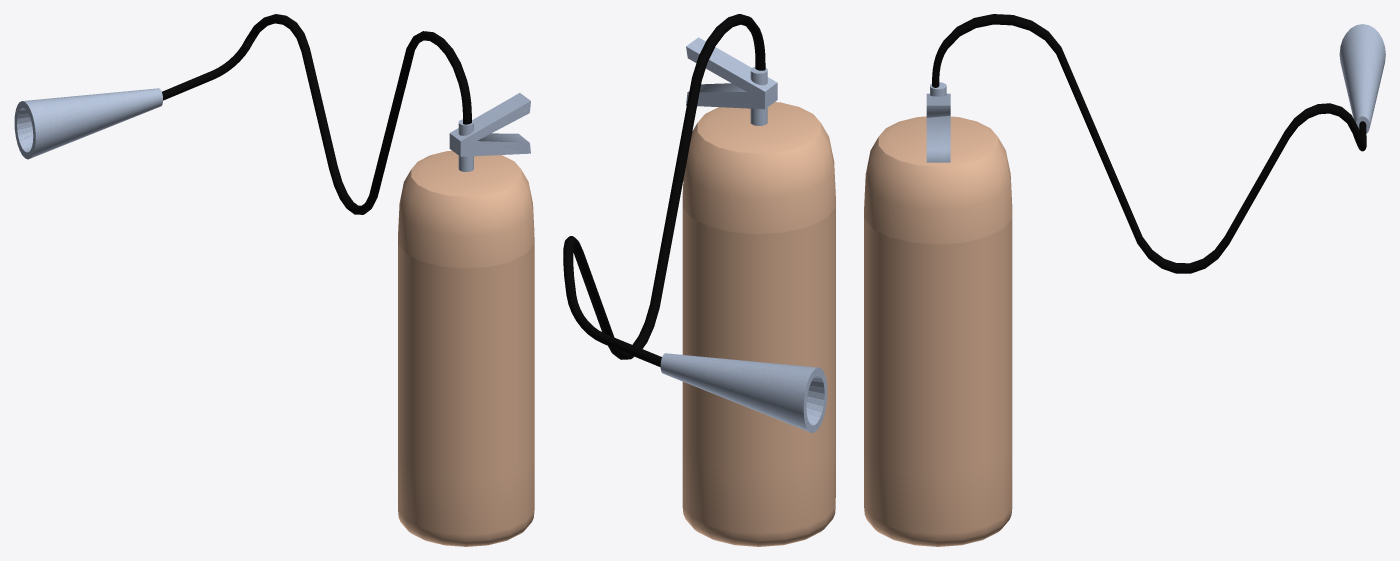
Rendered from CO2FPS.obj.
3 views of the same model, side by side, from view 1: azimuth 30°, elevation 25°; view 2: azimuth 150°, elevation 25°; view 3: azimuth 270°, elevation 25° (orthographic). The views are drawn at different scales.
Parts seen in each view (by area): view 1: Cylinder001, Line002, Cone001, Box001; view 2: Cylinder001, Line002, Cone001, Box001, Cylinder002; view 3: Cylinder001, Line002, Cone001, Box001.
Boxes of the visible parts, x1=… form: Cylinder001: x1=398, y1=150, x2=534, y2=546; Line002: x1=162, y1=14, x2=471, y2=214; Cone001: x1=14, y1=88, x2=162, y2=159; Box001: x1=449, y1=93, x2=530, y2=156; Cylinder001: x1=682, y1=102, x2=835, y2=546; Line002: x1=563, y1=14, x2=765, y2=367; Cone001: x1=660, y1=353, x2=827, y2=432; Box001: x1=686, y1=37, x2=777, y2=109; Cylinder002: x1=750, y1=67, x2=767, y2=125; Cylinder001: x1=864, y1=116, x2=1012, y2=546; Line002: x1=932, y1=14, x2=1366, y2=273; Cone001: x1=1339, y1=24, x2=1385, y2=133; Box001: x1=926, y1=93, x2=950, y2=162.
Size of the model in its own units: 0.9079 by 1.32 by 1.24.
